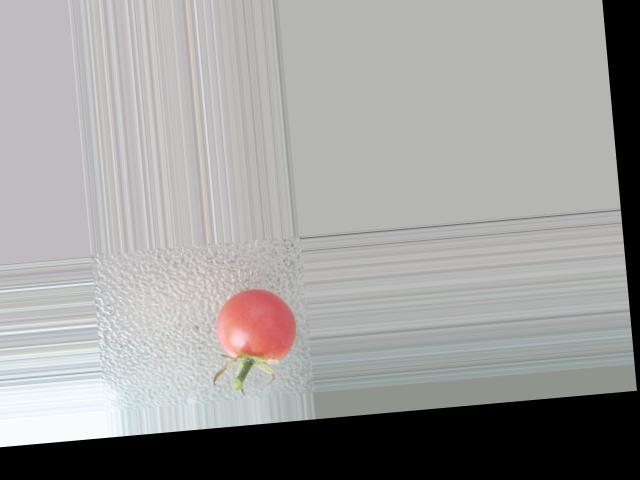tomato: (211, 284, 297, 365)
